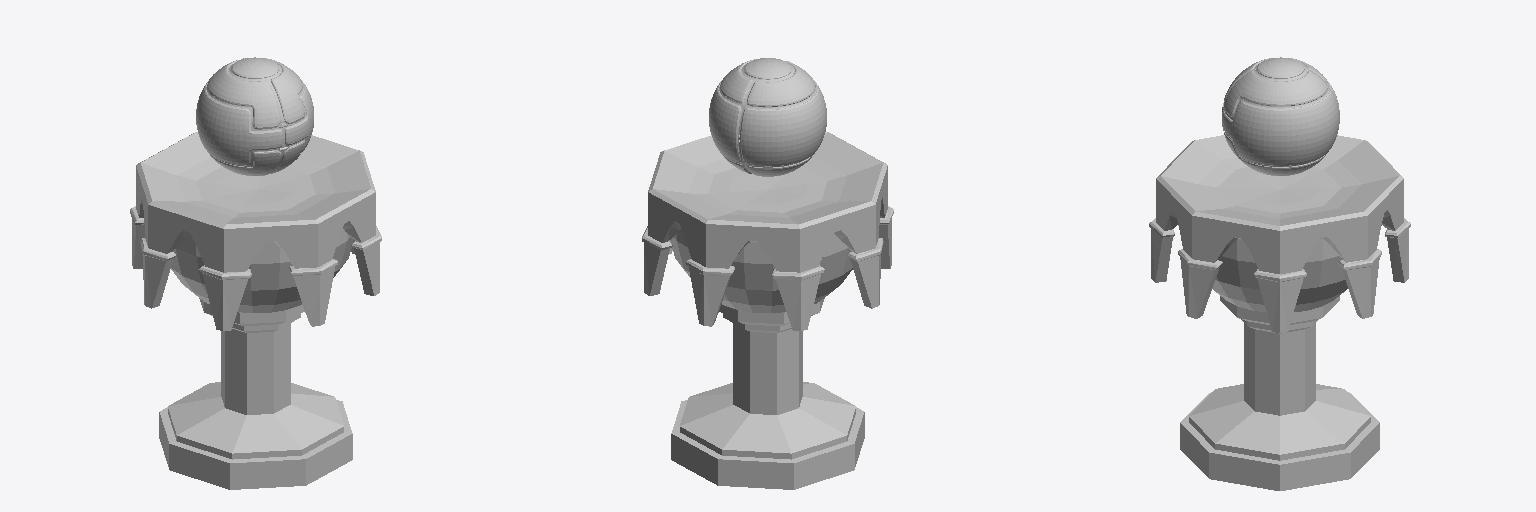
File: Artifact Ball of edin.obj
The picture shows the model from 3 angles: view 1: azimuth 30°, elevation 25°; view 2: azimuth 150°, elevation 25°; view 3: azimuth 270°, elevation 25°; orthographic projection.
Visible parts, largest first — view 1: Cylinder001, Object006, Sphere001, Object007, Object002, Object008, Object004; view 2: Cylinder001, Object006, Sphere001, Object008, Object004, Object007; view 3: Cylinder001, Object008, Object007, Object004, Object005.
Part boxes in pixels (left/top/right/bottom): Cylinder001: left=130, top=132, right=381, bottom=489; Object006: left=196, top=82, right=283, bottom=165; Sphere001: left=207, top=60, right=282, bottom=129; Object007: left=243, top=57, right=305, bottom=125; Object002: left=210, top=149, right=282, bottom=175; Object008: left=283, top=81, right=313, bottom=151; Object004: left=230, top=58, right=279, bottom=79; Cylinder001: left=642, top=132, right=893, bottom=489; Object006: left=739, top=82, right=826, bottom=166; Sphere001: left=744, top=61, right=815, bottom=107; Object008: left=709, top=82, right=743, bottom=163; Object004: left=743, top=58, right=792, bottom=80; Object007: left=720, top=58, right=780, bottom=105; Cylinder001: left=1149, top=135, right=1410, bottom=490; Object008: left=1222, top=89, right=1339, bottom=165; Object007: left=1224, top=70, right=1328, bottom=118; Object004: left=1256, top=58, right=1305, bottom=79; Object005: left=1224, top=132, right=1325, bottom=175.
Size of the model in its own units: 41.89 by 68.29 by 41.89.